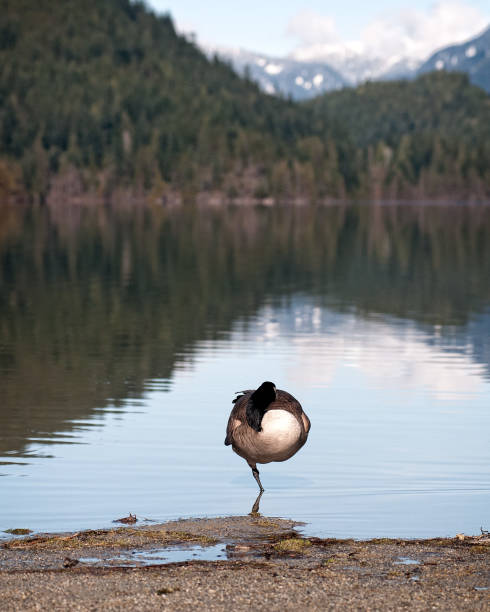goose: (219, 379, 313, 512)
